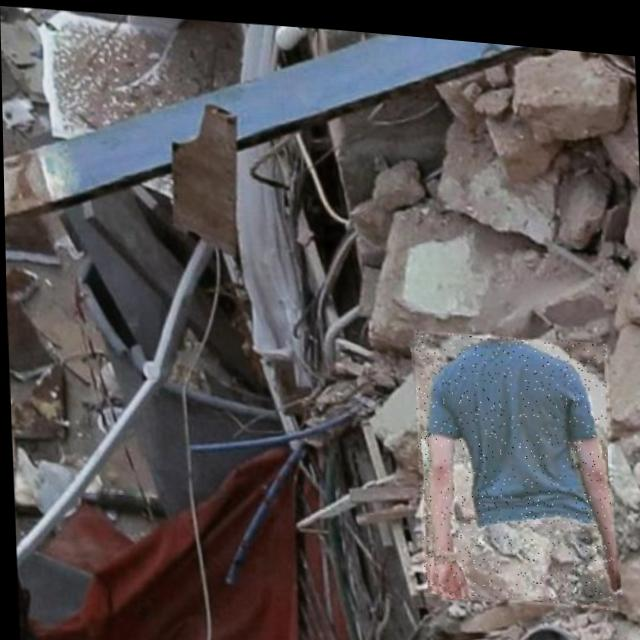Person in Rubble: (412, 319, 615, 602)
